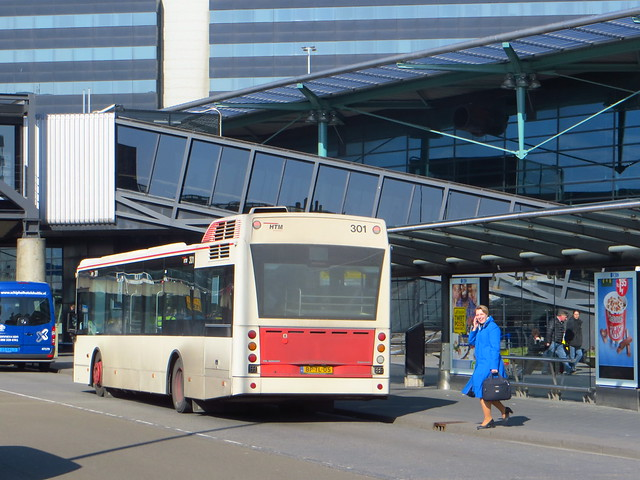bus: (74, 212, 391, 413)
